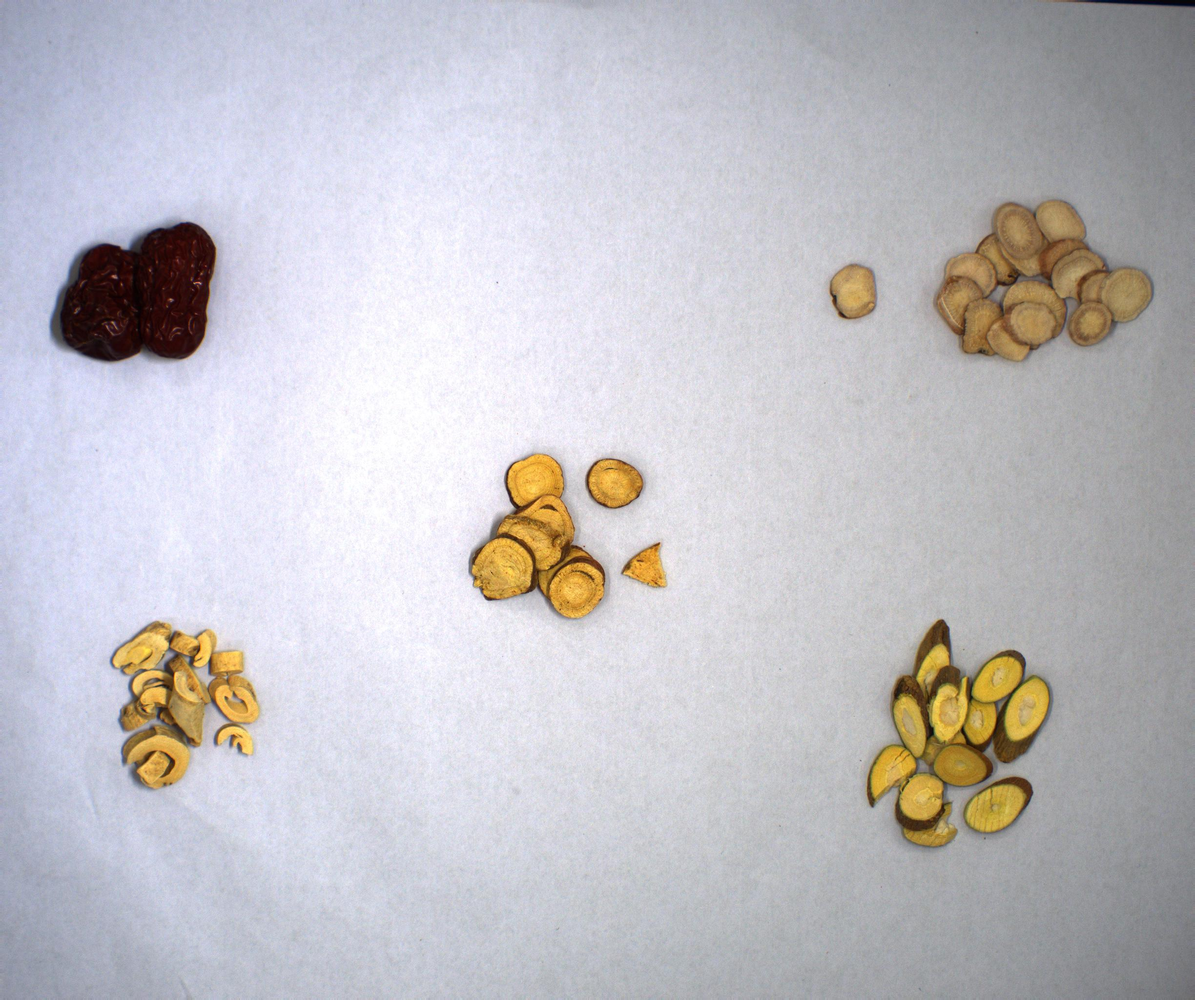baishao: (805, 151, 1168, 417)
baixianpi: (86, 607, 301, 864)
dazao: (36, 190, 247, 403)
gancaopian: (443, 421, 717, 649)
sangzhi: (854, 580, 1103, 919)
